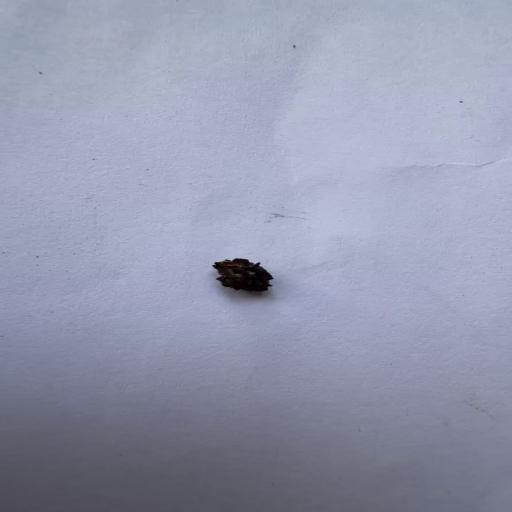papaya_seed: (210, 256, 274, 292)
